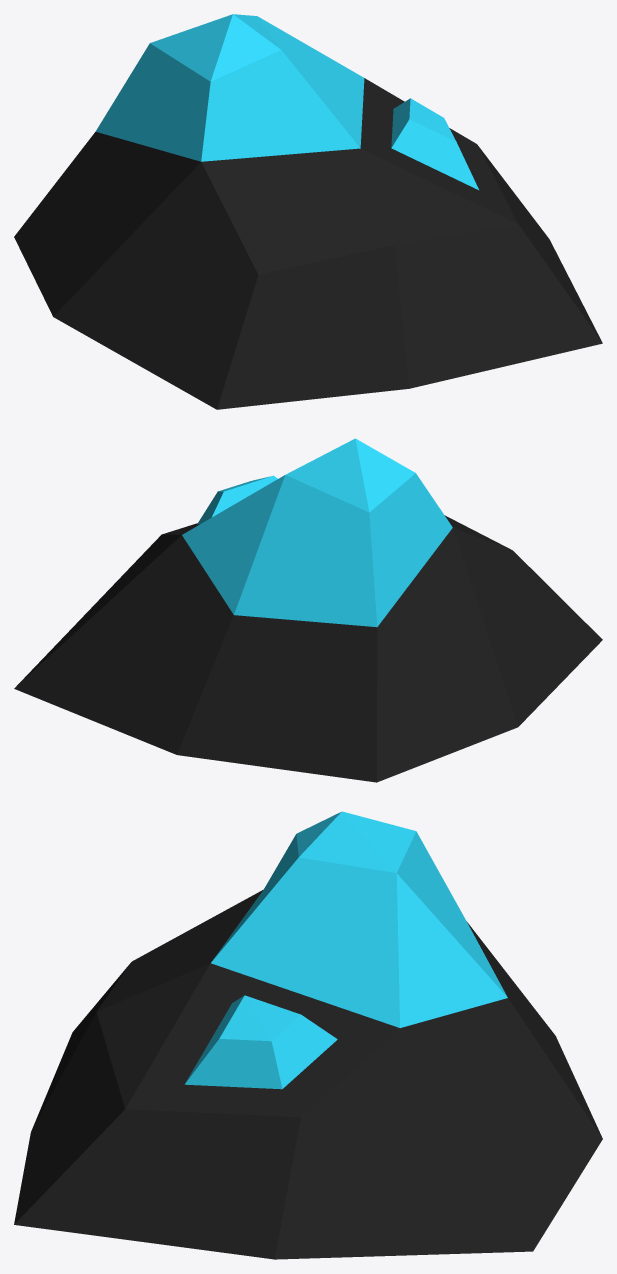
File: Clystal.fbx
3 renders of one model, top to bottom at view 1: azimuth 30°, elevation 25°; view 2: azimuth 150°, elevation 25°; view 3: azimuth 270°, elevation 25°, orthographic. The views are drawn at different scales.
Visible parts, largest first — view 1: Cristal; view 2: Cristal; view 3: Cristal.
Part boxes in pixels (x1,y1,x2,y2): Cristal: [14, 14, 602, 409]; Cristal: [14, 438, 602, 782]; Cristal: [14, 811, 602, 1259].
Bounding box in the file's own units: 2.35 × 1.35 × 2.38.
